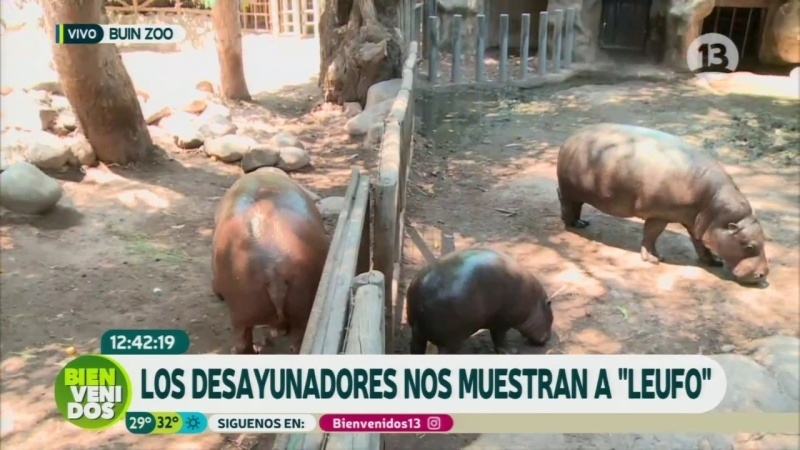hipopotamo: (540, 106, 773, 295), (190, 143, 335, 353), (396, 238, 565, 354)
